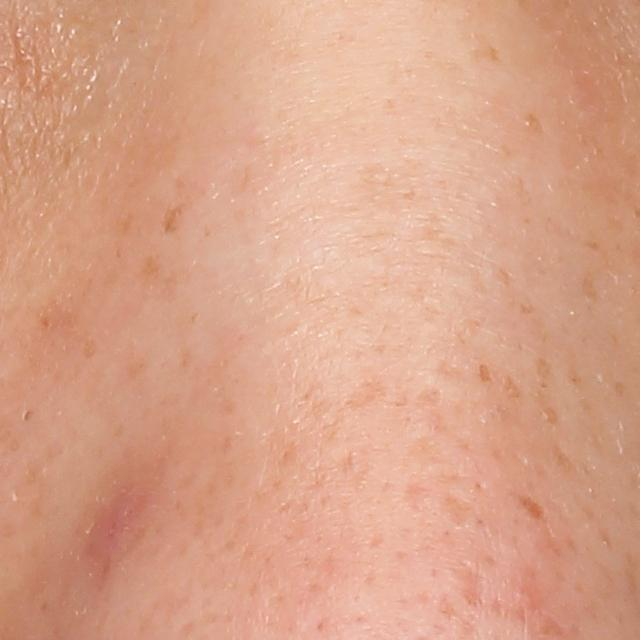atrophic_scar: (448, 561, 491, 608), (435, 489, 477, 528)
melasma: (157, 167, 210, 242), (138, 252, 184, 302), (499, 370, 527, 402), (579, 270, 604, 304), (473, 363, 494, 389), (535, 355, 555, 381), (517, 300, 535, 315)
